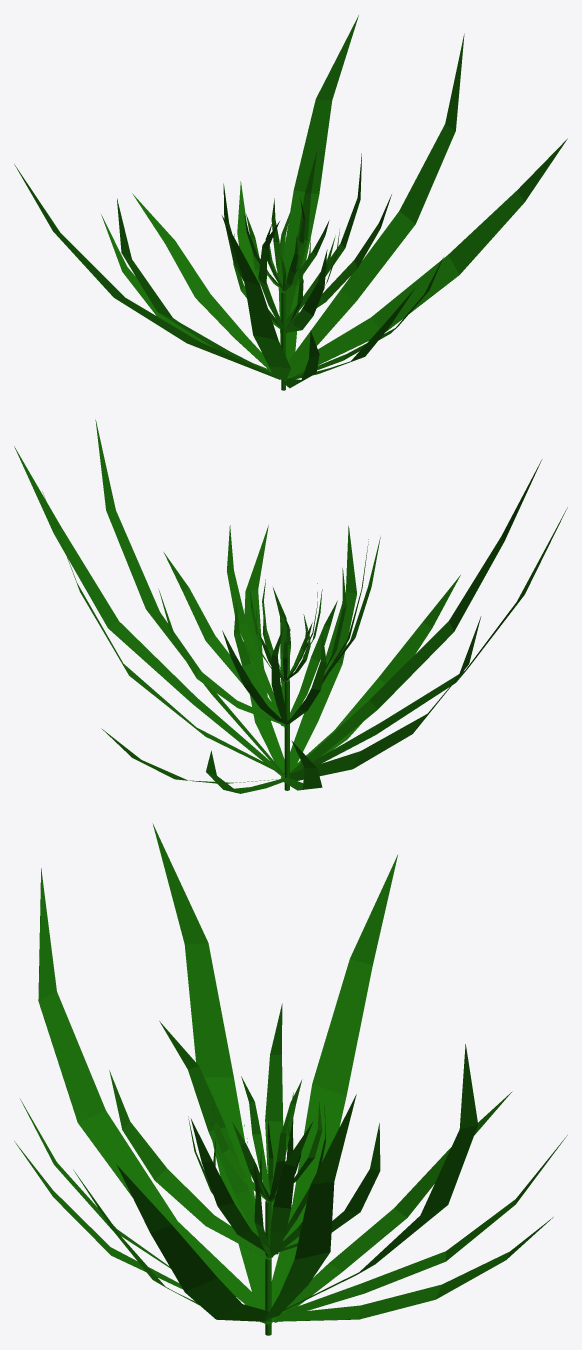
File: Grass_Bush.fbx
3 renders of one model, top to bottom at view 1: azimuth 30°, elevation 25°; view 2: azimuth 150°, elevation 25°; view 3: azimuth 270°, elevation 25°, orthographic. The views are drawn at different scales.
Visible parts, largest first — view 1: Blatt.002, Blatt.001, Blatt.003, Blatt.007, Blatt.008, Blatt.004, Blatt.010, Blatt.006, Blatt.009; view 2: Blatt.002, Blatt.001, Blatt.004, Blatt.007, Blatt.005, Blatt.006, Blatt.003, Blatt.008, Stiel, Blatt.011, Blatt.012; view 3: Blatt.001, Blatt.002, Blatt.003, Blatt.008, Blatt.007, Blatt.004, Blatt.009, Blatt.010, Blatt.005, Stiel, Blatt.006.
Boxes of the visible parts, x1,y1,x2,y2 form: Blatt.002: [278, 15, 567, 378]; Blatt.001: [14, 164, 290, 380]; Blatt.003: [101, 181, 271, 372]; Blatt.007: [286, 149, 391, 327]; Blatt.008: [223, 183, 327, 333]; Blatt.004: [282, 257, 443, 388]; Blatt.010: [271, 196, 329, 286]; Blatt.006: [233, 209, 291, 329]; Blatt.009: [244, 214, 298, 291]; Blatt.002: [14, 419, 287, 777]; Blatt.001: [285, 459, 567, 783]; Blatt.004: [243, 525, 460, 778]; Blatt.007: [158, 525, 285, 726]; Blatt.005: [234, 586, 337, 727]; Blatt.006: [222, 628, 326, 725]; Blatt.003: [101, 728, 322, 793]; Blatt.008: [284, 537, 380, 727]; Stiel: [284, 680, 289, 790]; Blatt.011: [258, 629, 310, 681]; Blatt.012: [262, 613, 312, 681]; Blatt.001: [38, 823, 397, 1323]; Blatt.002: [116, 1044, 478, 1322]; Blatt.003: [271, 1091, 567, 1321]; Blatt.008: [109, 1003, 283, 1259]; Blatt.007: [190, 1118, 380, 1254]; Blatt.004: [14, 1099, 271, 1325]; Blatt.009: [212, 1076, 302, 1203]; Blatt.010: [232, 1103, 322, 1201]; Blatt.005: [188, 1116, 271, 1257]; Stiel: [265, 1200, 271, 1335]; Blatt.006: [270, 1092, 325, 1257].
Bounding box in the file's own units: 55.64 × 33.78 × 43.57.
